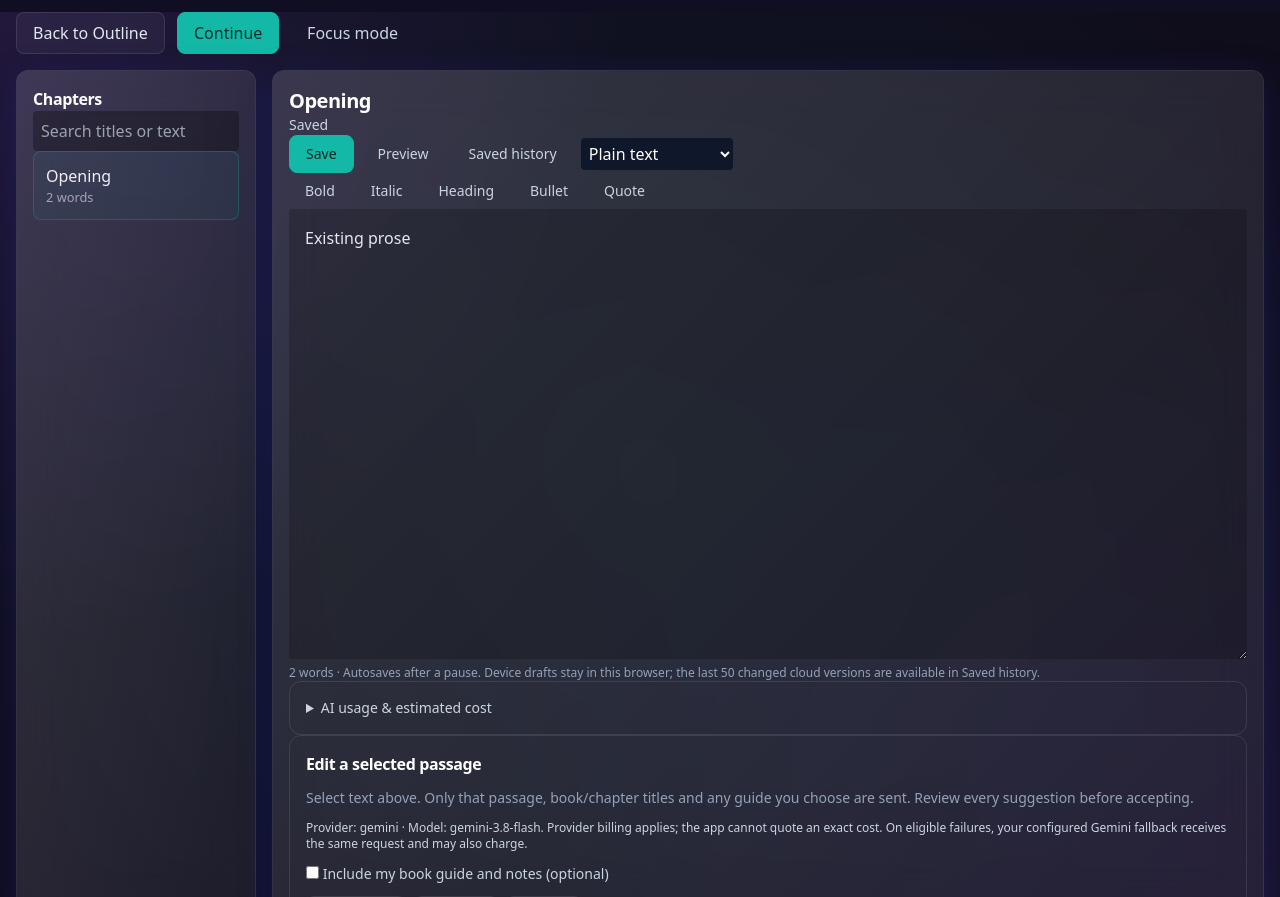
keeps the editor open when saving fails
This screenshot has width=1280, height=897.
Replace the text in the text box named "Chapter content" with "Unsaved text" at (768, 434), box [289,209,1247,659]
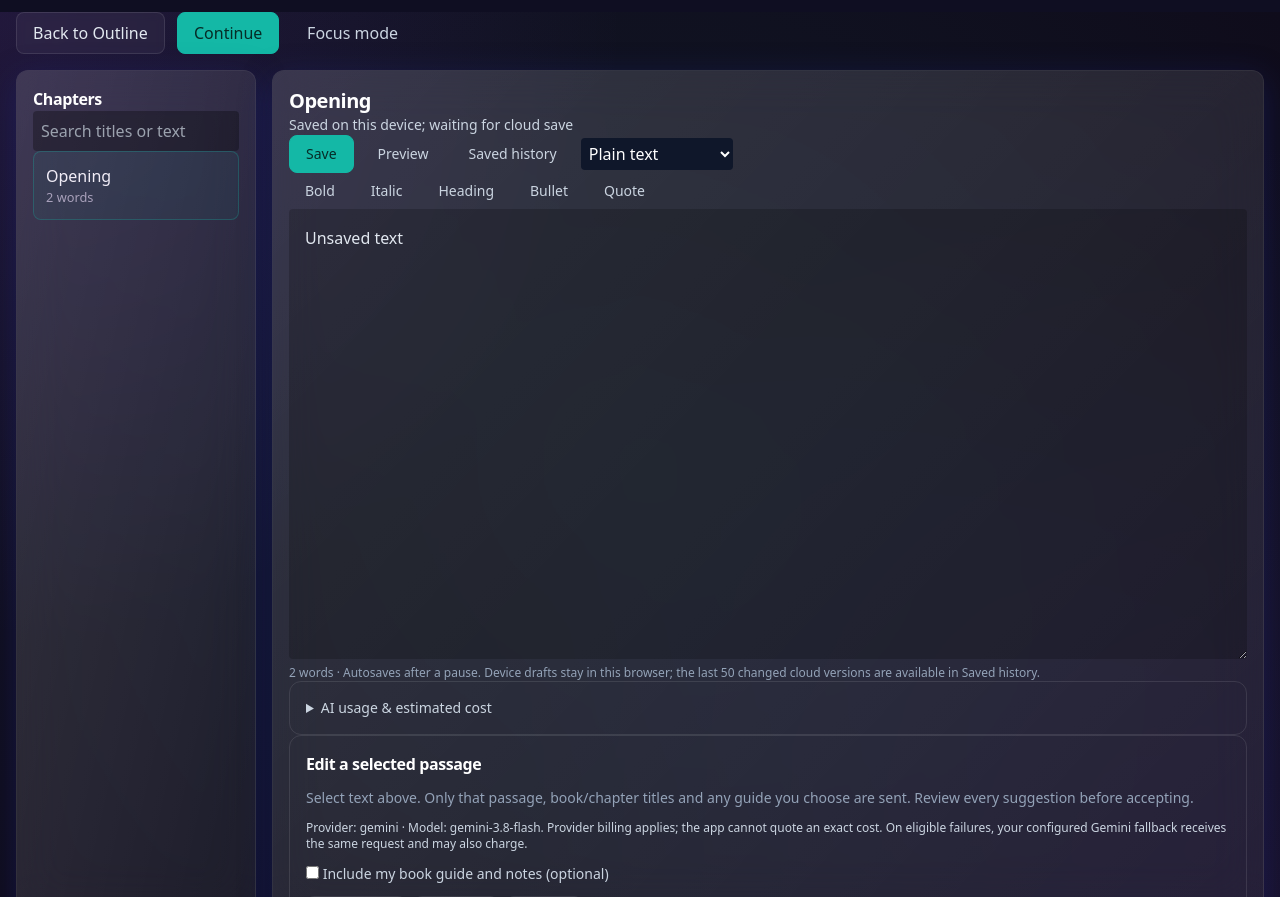
Click the button "Continue" at (228, 33), box [177,12,279,54]
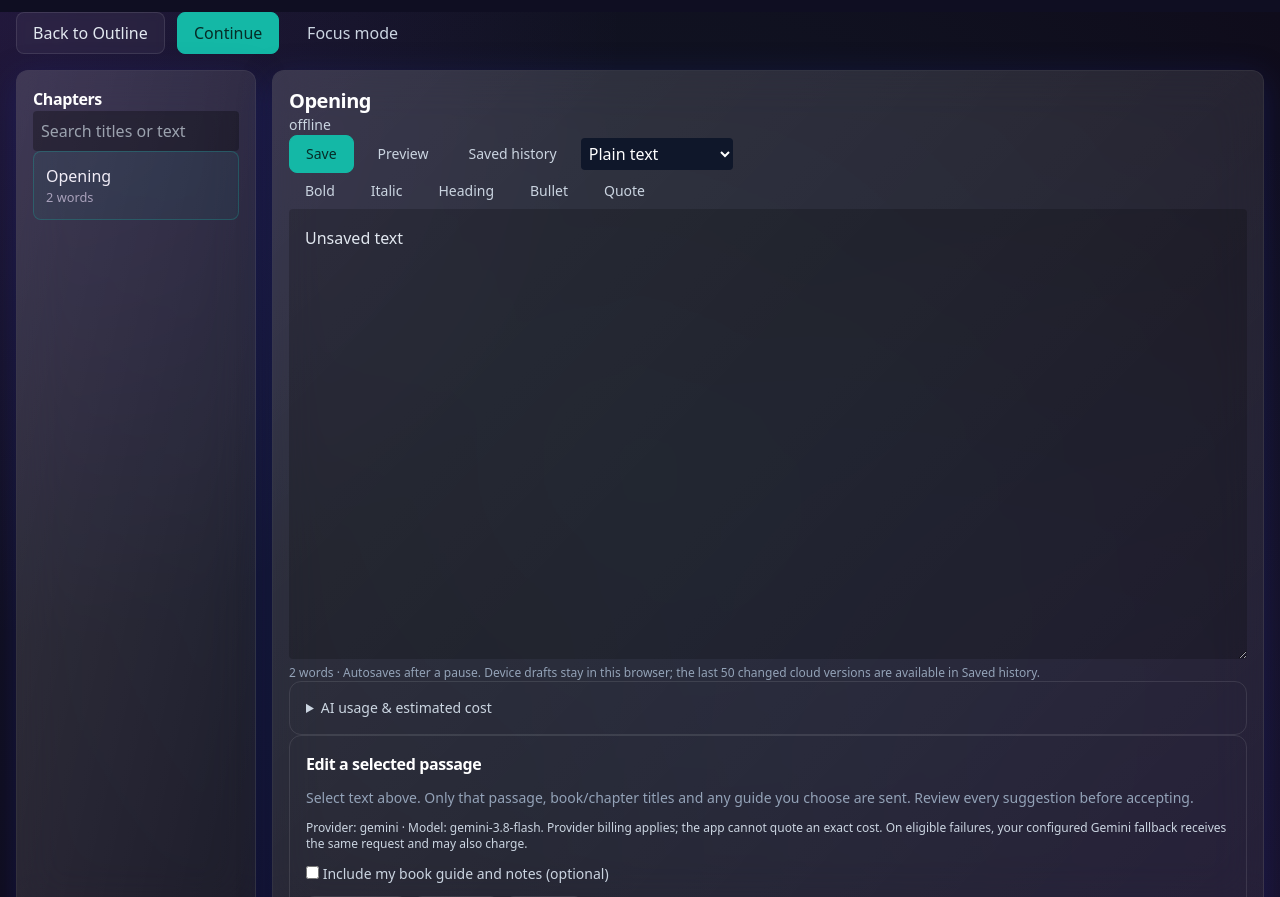
Expected: the text "offline" is shown, [289,115,331,134]
